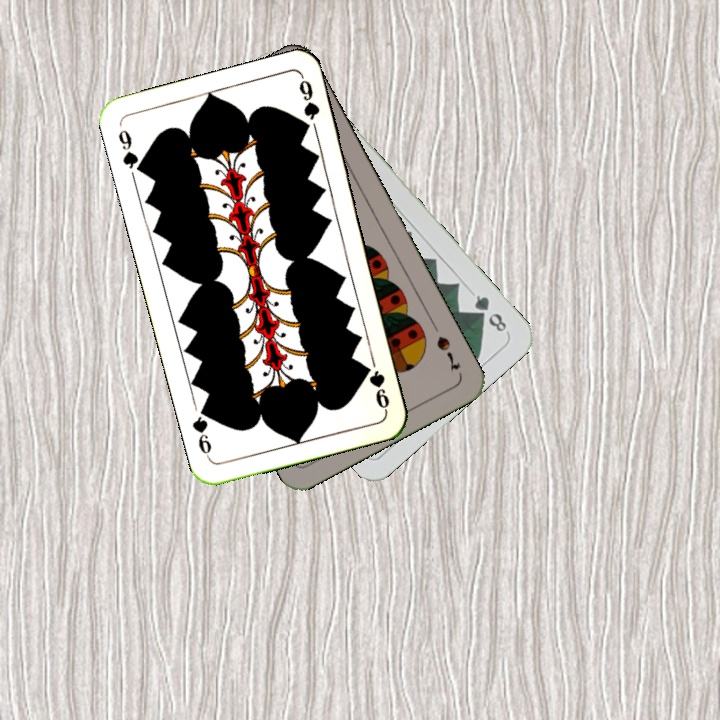G8: (470, 290, 510, 335)
G9: (114, 125, 147, 177), (366, 355, 392, 413)
S7: (432, 332, 463, 374)
